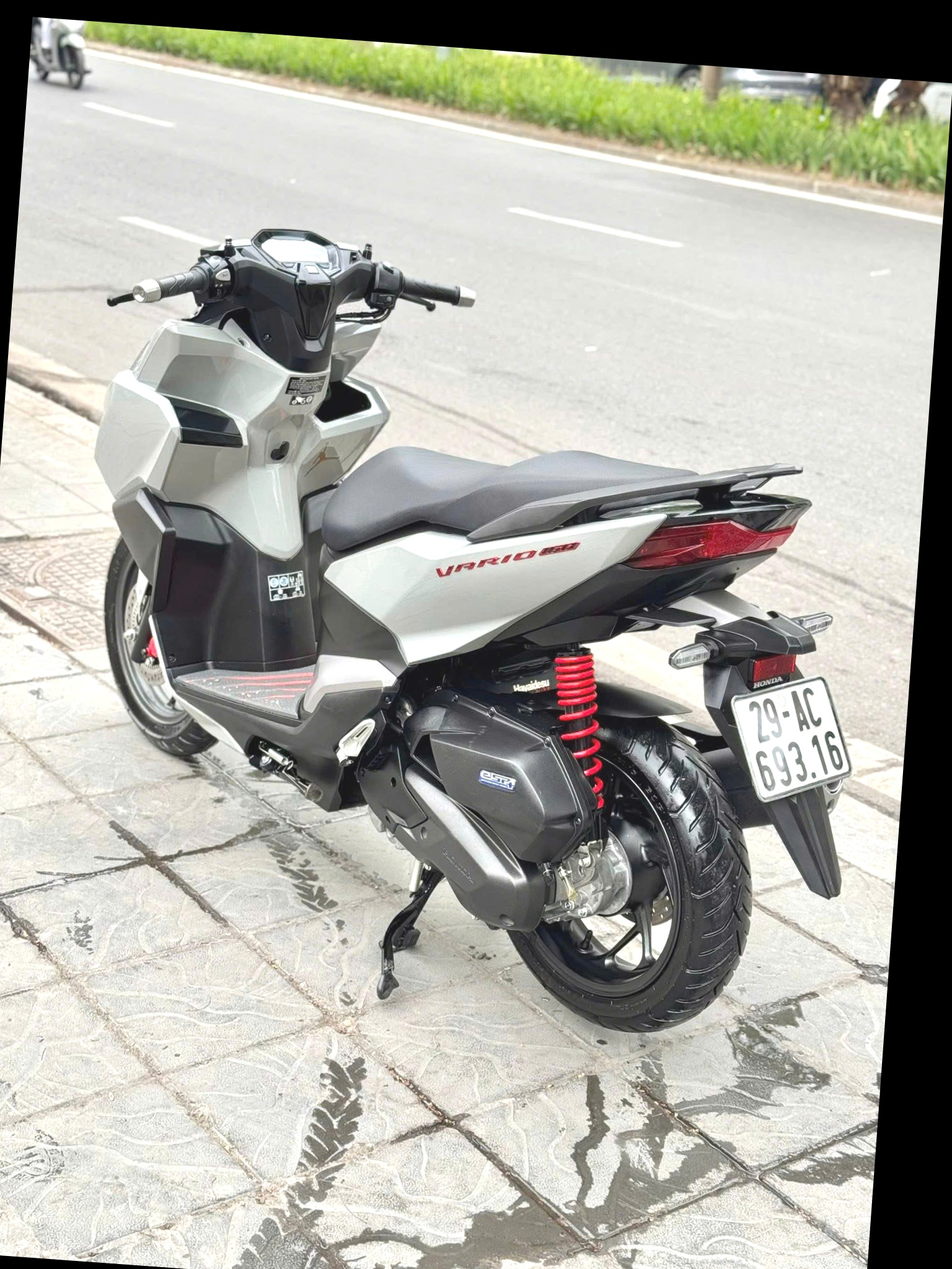Bien-so: (757, 650, 892, 789)
